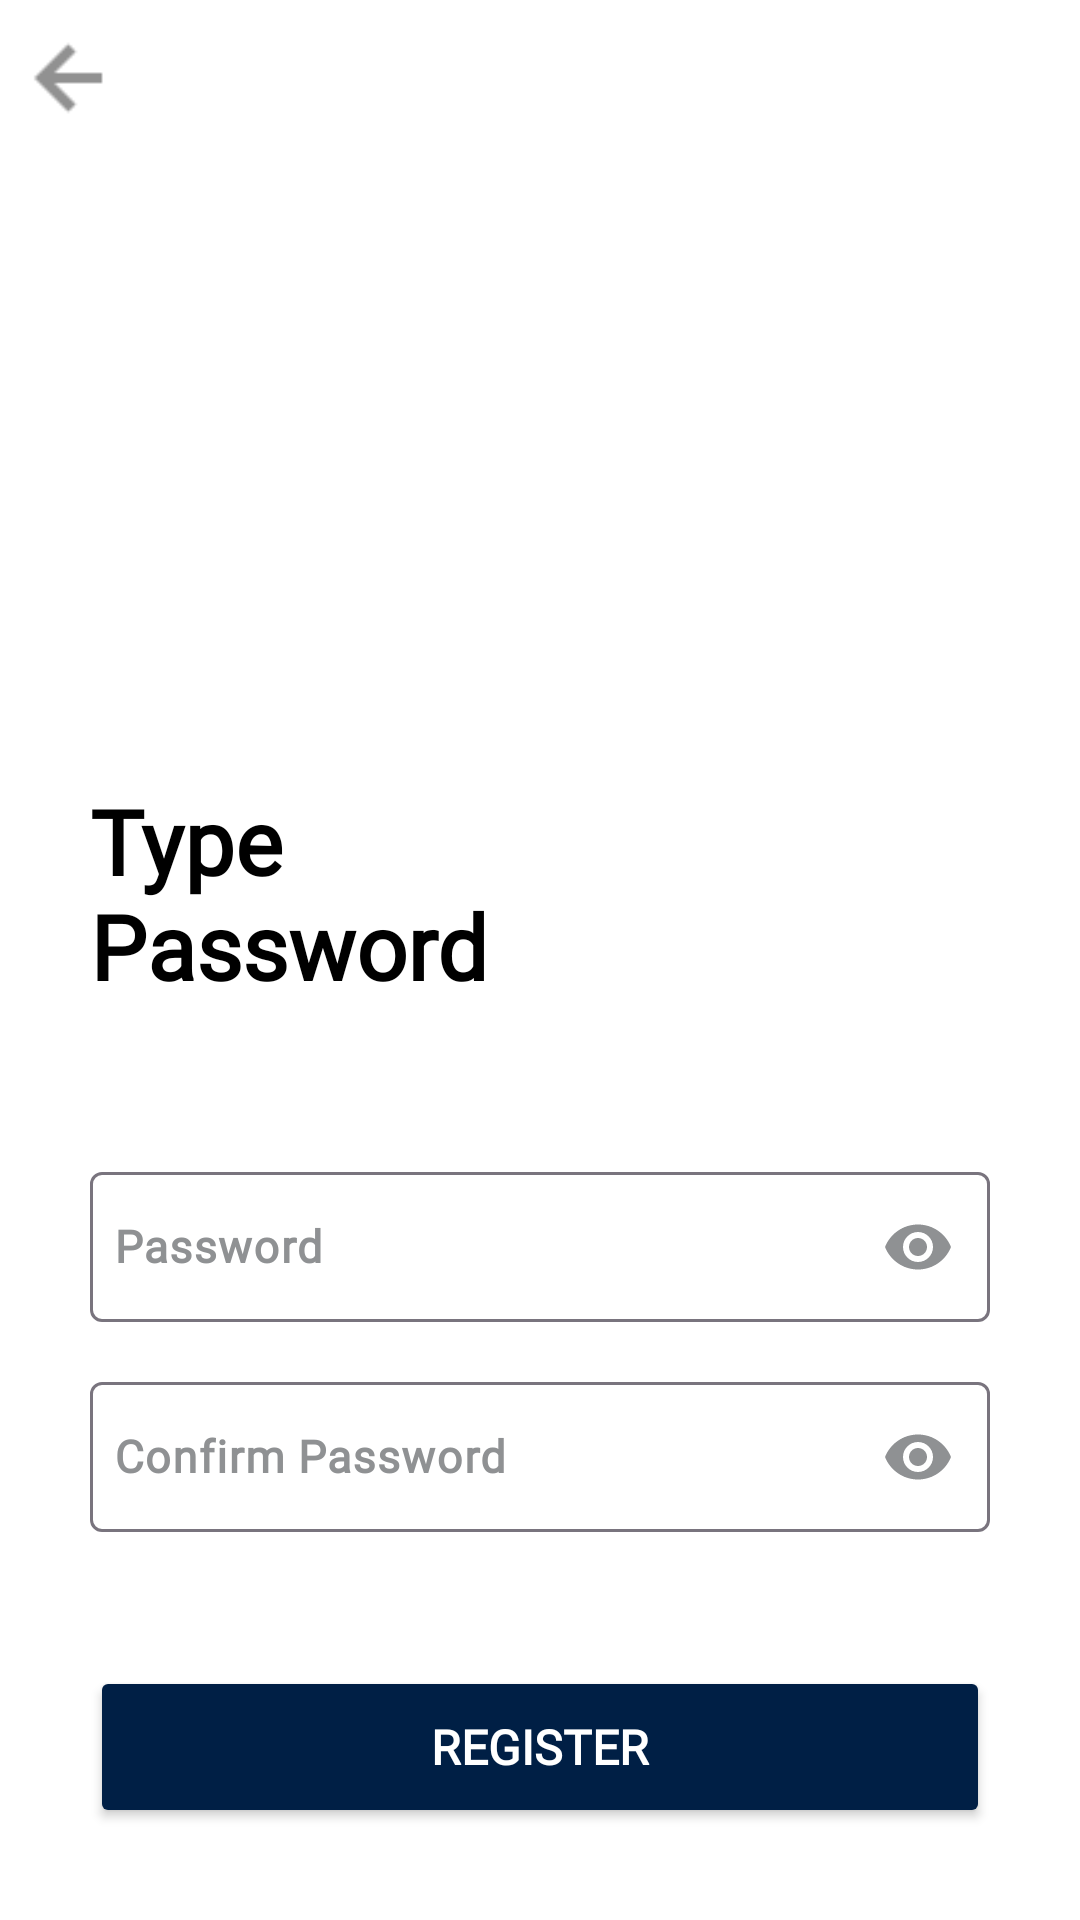

Screen size 1080×1920. Icon name, then its box in pixels as box(x1, y1, x2, y2):
back: box(34, 44, 103, 112)
